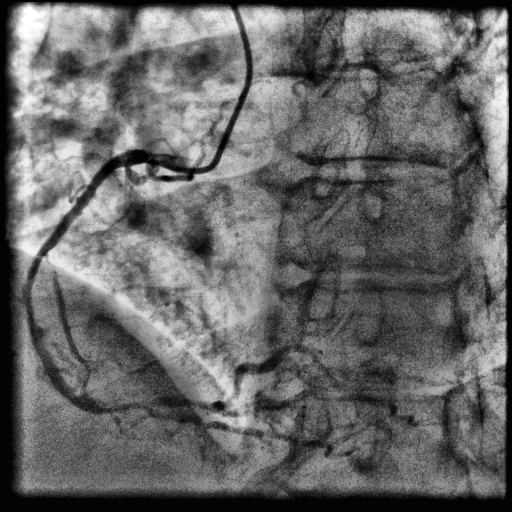pborca: (146, 344, 294, 410)
pda: (145, 406, 358, 459)
rca: (22, 149, 184, 413)
